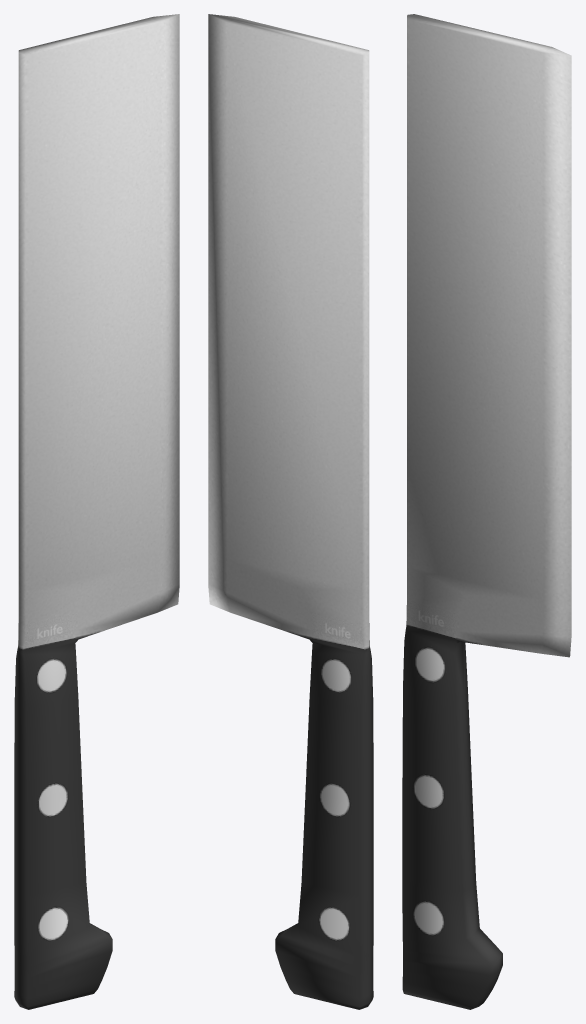
The model's file is knife2.glb.
3 views of the same model, side by side, from view 1: azimuth 30°, elevation 25°; view 2: azimuth 150°, elevation 25°; view 3: azimuth 330°, elevation 25° (orthographic). The views are drawn at different scales.
Parts seen in each view (by area): view 1: knife2; view 2: knife2; view 3: knife2.
Boxes of the visible parts, left/top/right/bottom form: knife2: left=14, top=14, right=179, bottom=1009; knife2: left=208, top=14, right=373, bottom=1009; knife2: left=402, top=14, right=571, bottom=1009.
Size of the model in its own units: 0.1179 by 0.6668 by 0.0179.
Materials: 1 (1 with a texture image).
